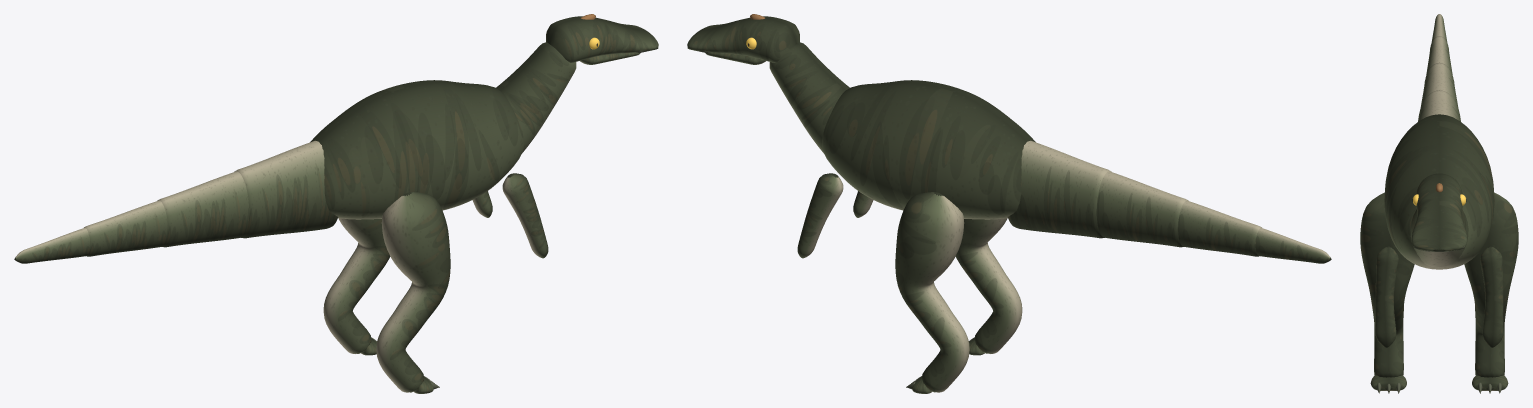
Rendered from maiasaura.glb.
The picture shows the model from 3 angles, left to right: view 1: azimuth 30°, elevation 25°; view 2: azimuth 150°, elevation 25°; view 3: azimuth 270°, elevation 25°; orthographic projection. The views are drawn at different scales.
Visible parts, largest first — view 1: Maia_Torso, Bone_Leg1_Limb, Maia_TailSeg0, Maia_TailSeg1, Bone_Leg0_Limb, Maia_Neck, Maia_Skull, Maia_TailSeg2, Maia_Arm1, Maia_TailSeg3; view 2: Maia_Torso, Bone_Leg0_Limb, Maia_TailSeg0, Maia_TailSeg1, Bone_Leg1_Limb, Maia_Neck, Maia_Skull, Maia_TailSeg2, Maia_Arm0, Maia_TailSeg3; view 3: Maia_Torso, Bone_Leg0_Limb, Bone_Leg1_Limb, Maia_Skull, Maia_Arm0, Maia_Arm1, Maia_TailSeg1, Maia_TailSeg0, Maia_Neck, Maia_TailSeg2, Bone_Leg1_FootPad, Bone_Leg0_FootPad (+1 smaller).
Part boxes in pixels (bbox=[...]): Maia_Torso: bbox=[310, 80, 523, 219]; Bone_Leg1_Limb: bbox=[376, 192, 450, 392]; Maia_TailSeg0: bbox=[234, 140, 338, 238]; Maia_TailSeg1: bbox=[157, 171, 249, 247]; Bone_Leg0_Limb: bbox=[323, 218, 390, 353]; Maia_Neck: bbox=[496, 42, 576, 152]; Maia_Skull: bbox=[546, 16, 658, 62]; Maia_TailSeg2: bbox=[84, 200, 167, 256]; Maia_Arm1: bbox=[502, 173, 548, 258]; Maia_TailSeg3: bbox=[14, 228, 90, 263]; Maia_Torso: bbox=[822, 80, 1035, 219]; Bone_Leg0_Limb: bbox=[895, 192, 969, 392]; Maia_TailSeg0: bbox=[1007, 140, 1111, 238]; Maia_TailSeg1: bbox=[1096, 171, 1188, 247]; Bone_Leg1_Limb: bbox=[955, 218, 1022, 353]; Maia_Neck: bbox=[769, 42, 849, 152]; Maia_Skull: bbox=[687, 16, 799, 62]; Maia_TailSeg2: bbox=[1178, 200, 1261, 256]; Maia_Arm0: bbox=[797, 173, 843, 258]; Maia_TailSeg3: bbox=[1255, 228, 1331, 263]; Maia_Torso: bbox=[1384, 114, 1494, 269]; Bone_Leg0_Limb: bbox=[1464, 192, 1518, 377]; Bone_Leg1_Limb: bbox=[1360, 192, 1414, 377]; Maia_Skull: bbox=[1411, 173, 1467, 251]; Maia_Arm0: bbox=[1480, 246, 1503, 347]; Maia_Arm1: bbox=[1375, 246, 1398, 347]; Maia_TailSeg1: bbox=[1420, 62, 1458, 107]; Maia_TailSeg0: bbox=[1418, 90, 1460, 121]; Maia_Neck: bbox=[1410, 209, 1468, 267]; Maia_TailSeg2: bbox=[1426, 36, 1452, 74]; Bone_Leg1_FootPad: bbox=[1370, 375, 1406, 390]; Bone_Leg0_FootPad: bbox=[1472, 375, 1508, 390].
Bounding box in the file's own units: 6.72 × 3.09 × 1.5.
Materials: 5 (1 with a texture image).
